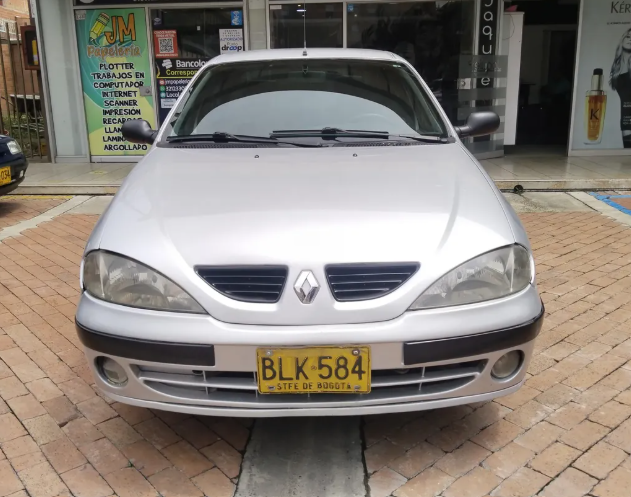placa: (254, 344, 374, 396)
